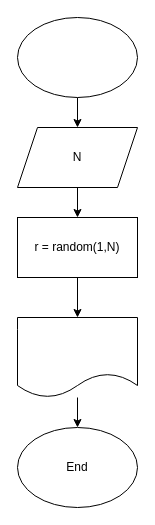
Some shapes in this 155 by 525 pixel diagram are drawn without their labels. Here are the shapes that lost their labels. From the top down, the box of each, then its label:
(16, 16, 138, 98): START
(16, 316, 138, 398): square r
